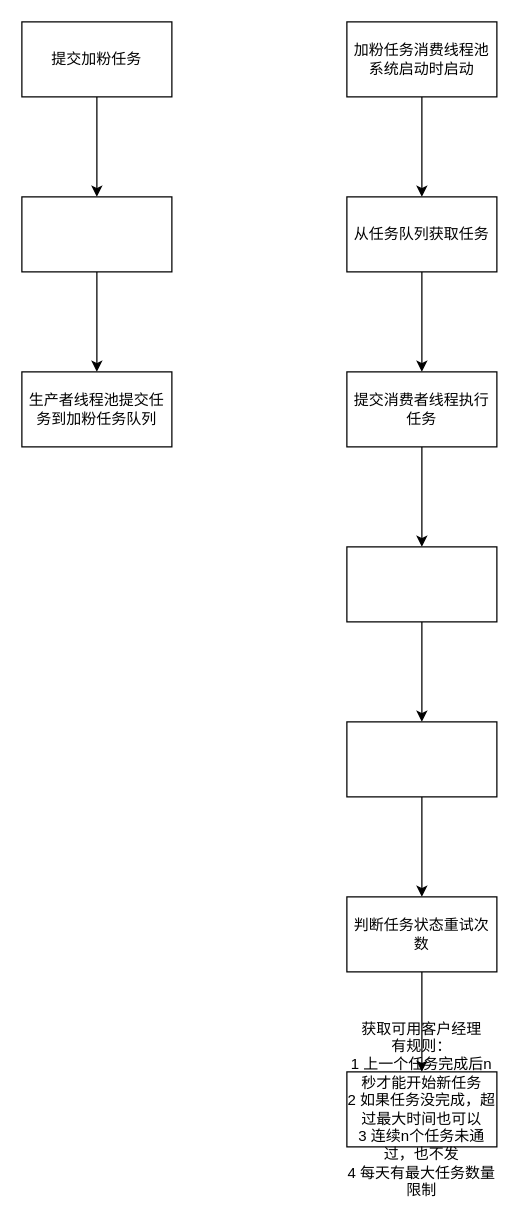
The diagram is 519 pixels wide and 1221 high, and some of its shapes have lost their labels. The box of each missing label's shape, as (x1, y1, x2, y2) in pixels:
写入数据库: (21, 196, 172, 272)
对任务加分布式锁: (346, 721, 497, 797)
对任务所属客户经理加分布式锁: (346, 546, 497, 622)
